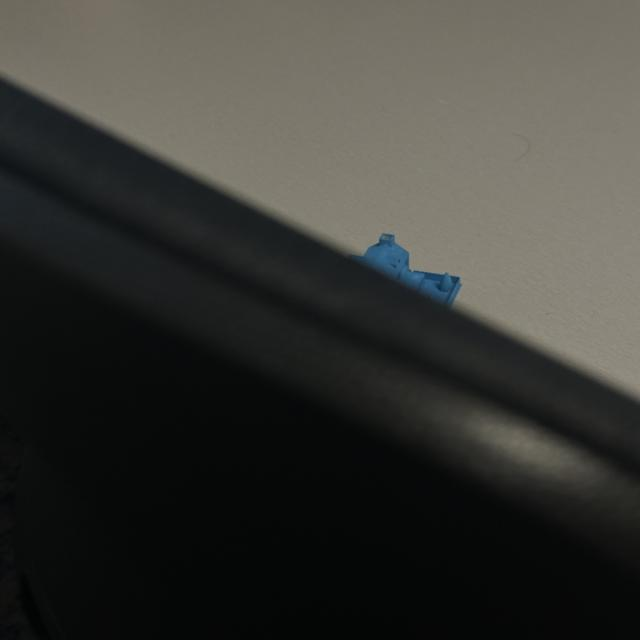house: (346, 230, 464, 310)
